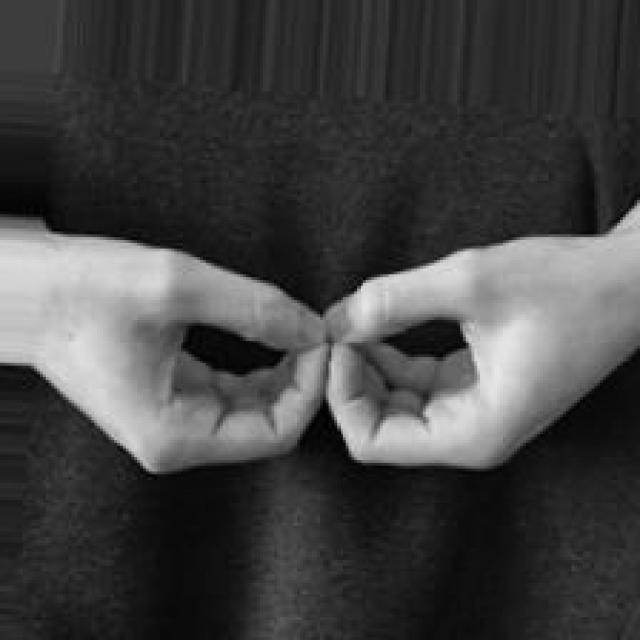B: (40, 220, 609, 475)
